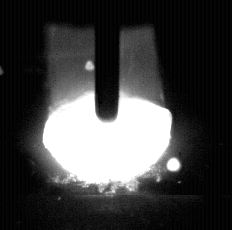arame: (96, 0, 121, 122)
poca: (42, 0, 171, 230)
